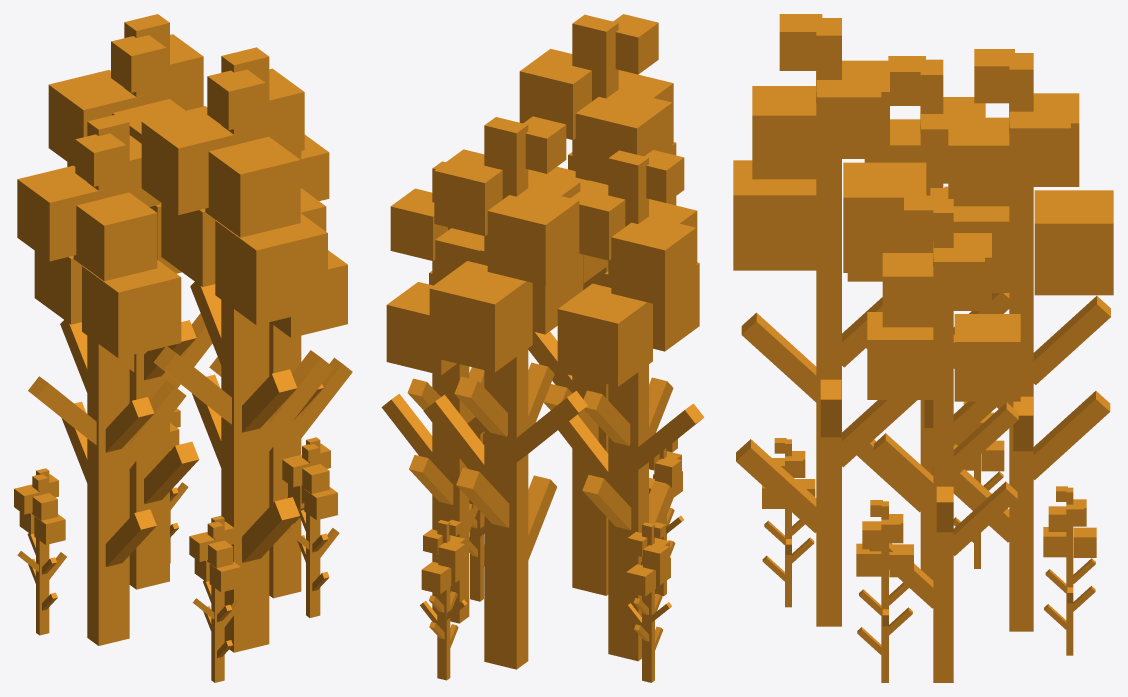
Rendered from Gandum.fbx.
3 renders of one model, left to right at view 1: azimuth 30°, elevation 25°; view 2: azimuth 150°, elevation 25°; view 3: azimuth 270°, elevation 25°, orthographic. The views are drawn at different scales.
Parts seen in each view (by area): view 1: Cube.004; view 2: Cube.004; view 3: Cube.004.
Boxes of the visible parts, x1,y1,x2,y2 form: Cube.004: (14,14,352,682); Cube.004: (381,14,704,682); Cube.004: (733,14,1113,682).
Size of the model in its own units: 1132 by 2030 by 1152.
